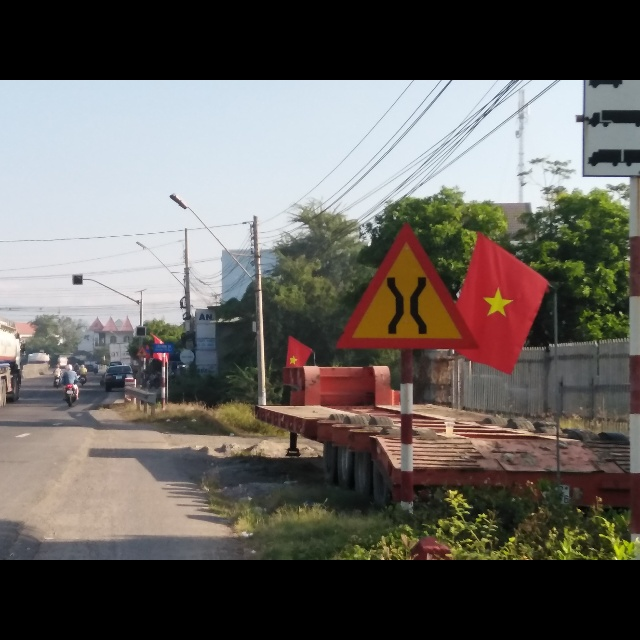Cầu hẹp: (337, 219, 484, 355)
